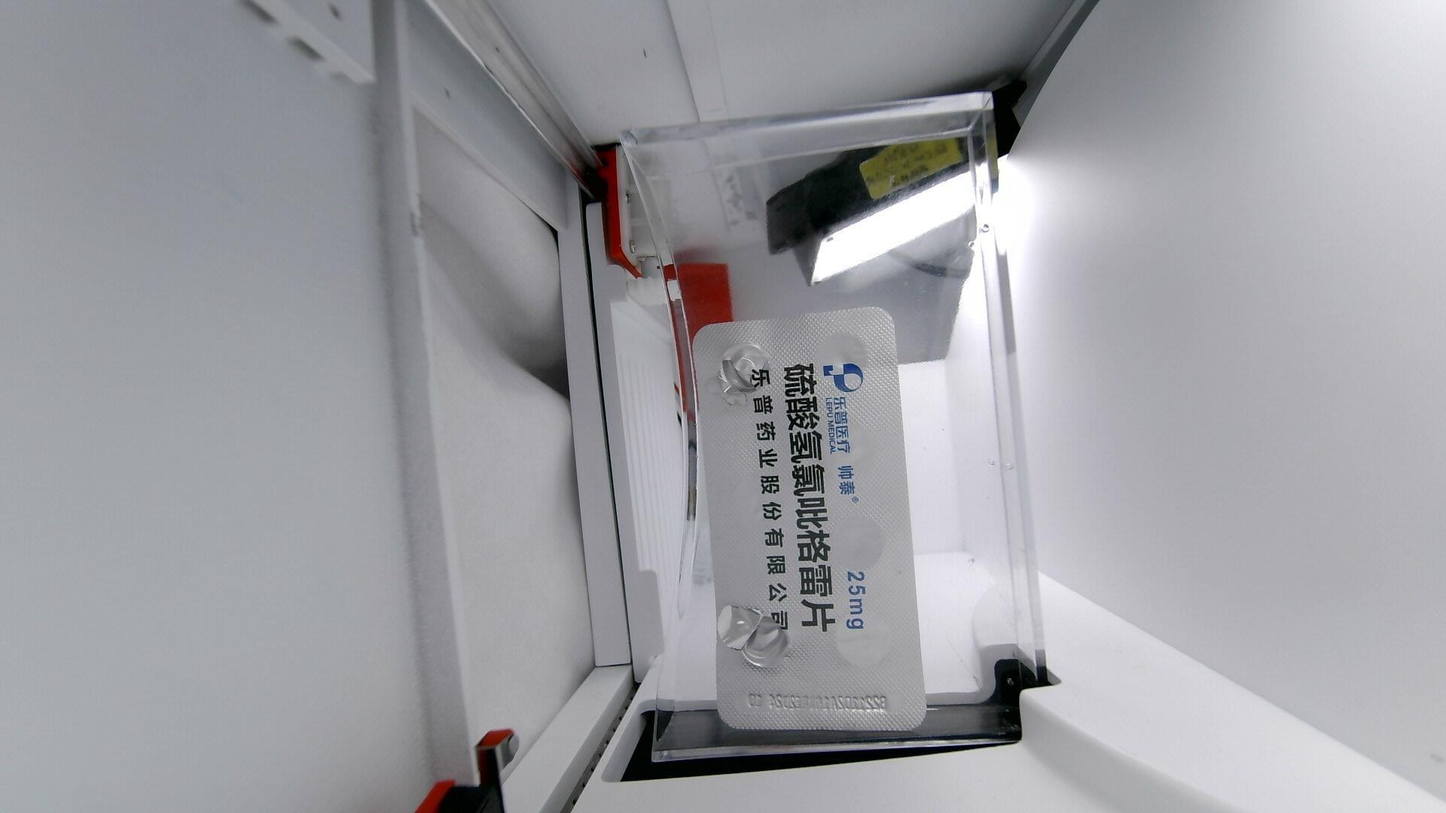No Pill Back: (730, 607, 796, 681), (720, 339, 773, 405)
Pill Back: (813, 514, 890, 580), (806, 330, 883, 392), (722, 487, 791, 547), (809, 409, 880, 467), (828, 607, 893, 670)
